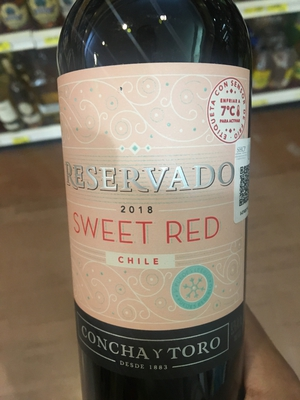reservado sweet red: (56, 3, 266, 391)
